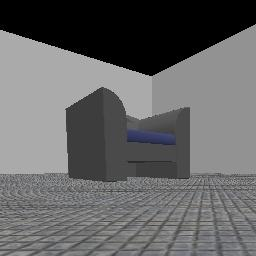fotoliu: (66, 87, 189, 181)
